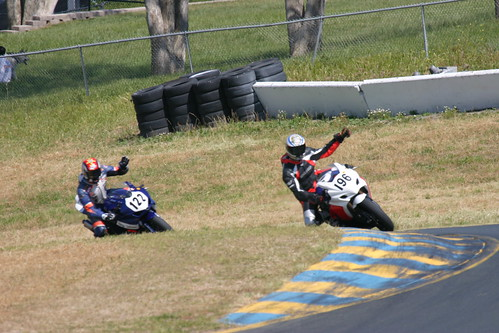helmet: (78, 152, 101, 180), (282, 130, 307, 155)
